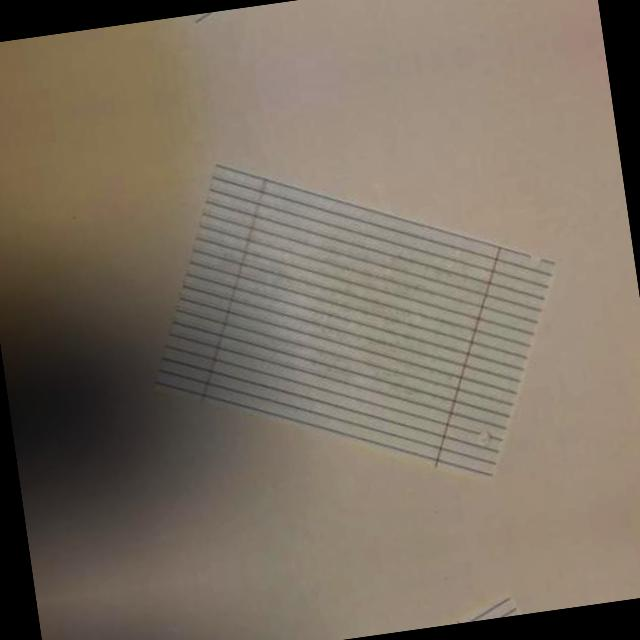paper: (117, 103, 588, 510), (98, 0, 523, 52), (186, 595, 609, 640)
